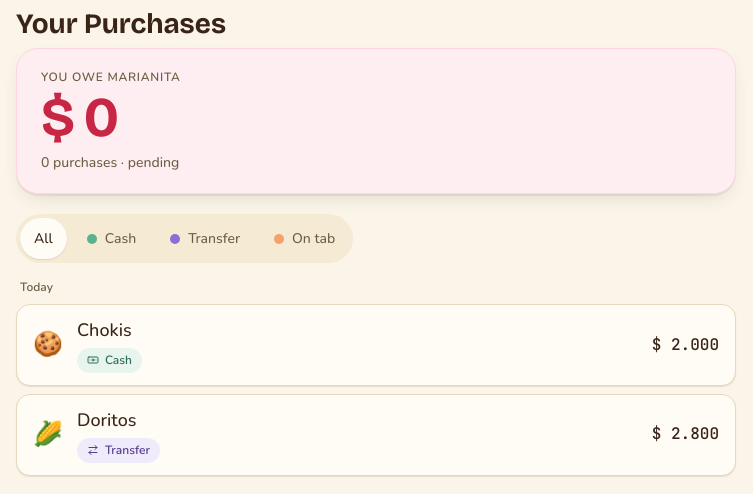
Test case: MyPurchases — filtros › el filtro "Transfer" muestra solo transferencias
This screenshot has width=753, height=494.
Click the button "Transfer" at (205, 239), box 156,218 -> 254,259
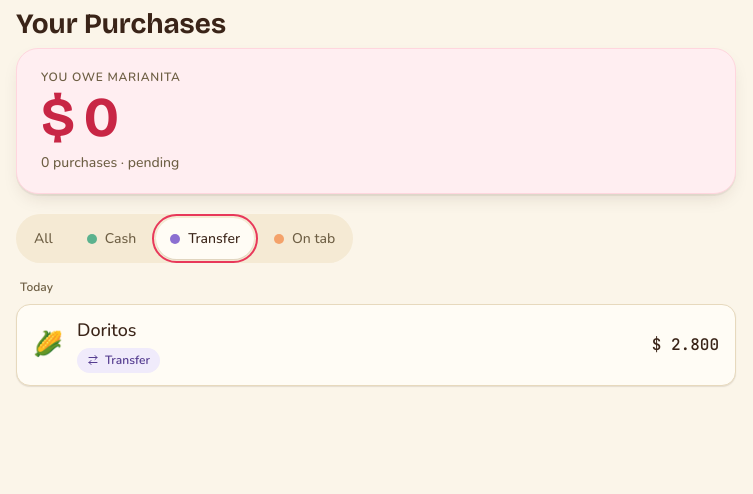
Expected: the text "Doritos" is shown, 77,317 -> 136,344
Expected: the text "Chokis" is gone
